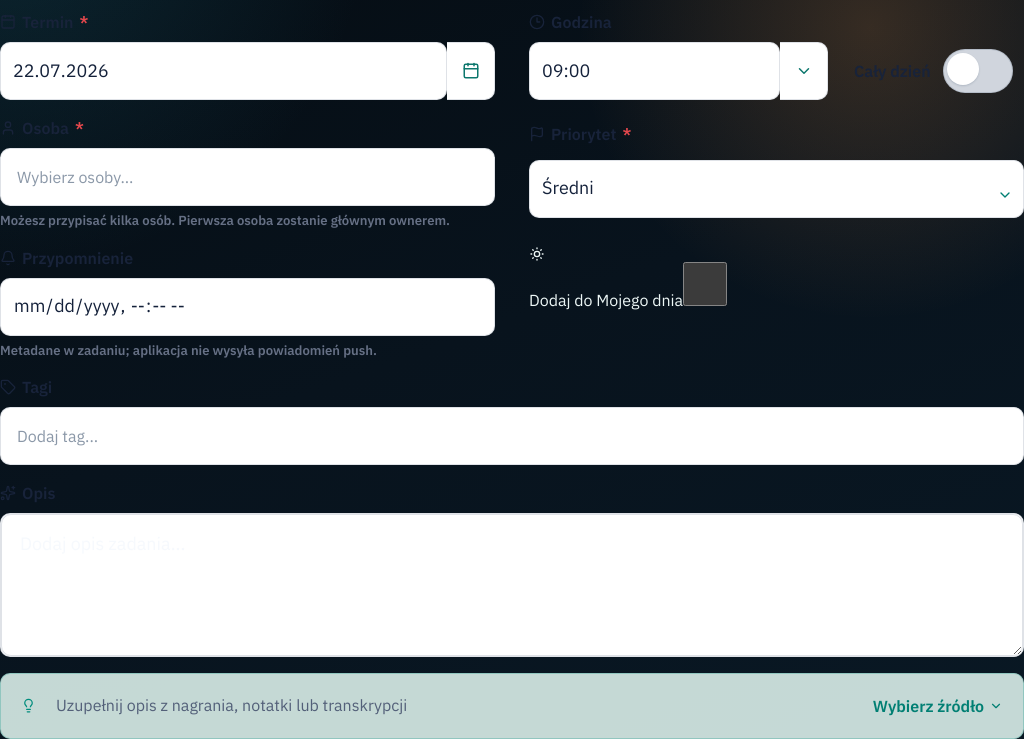
Scenario: Regression: Issue #0 - unified screenshot task form › renders source picker options for description enrichment
(page scrolled)
Click the button "Wybierz źródło" at point(938, 706), box [873,684,1003,728]
(page scrolled)
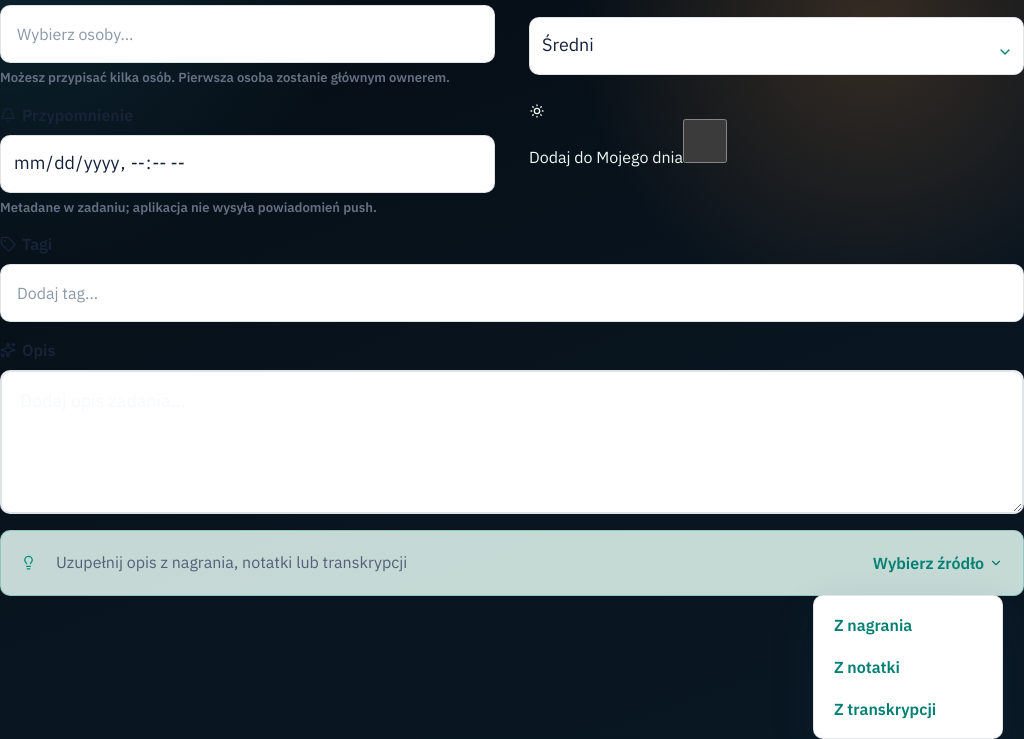
Expected: the option "Z nagrania" is shown, [822,604,994,646]
Expected: the option "Z notatki" is shown, [822,646,994,688]
Expected: the option "Z transkrypcji" is shown, [822,688,994,730]
